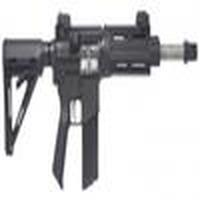gun: (2, 22, 191, 146)
